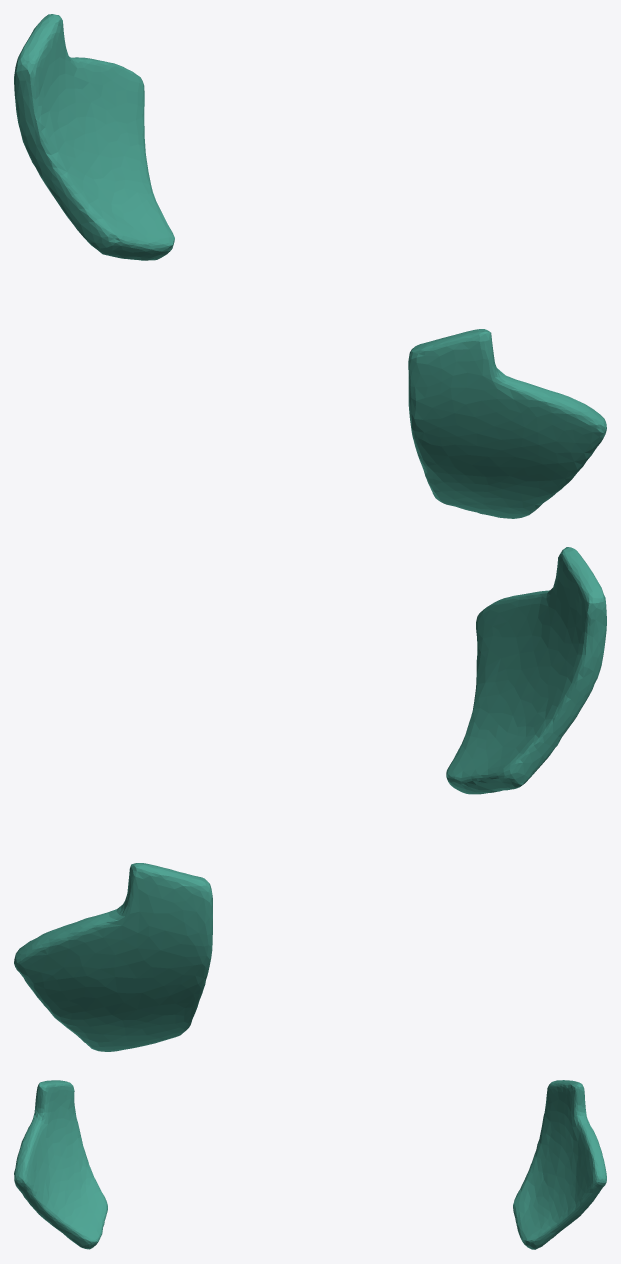
3 views of the same model, one above another, from view 1: azimuth 30°, elevation 25°; view 2: azimuth 150°, elevation 25°; view 3: azimuth 270°, elevation 25° (orthographic). The views are drawn at different scales.
Parts seen in each view (by area): view 1: 657.obj; view 2: 657.obj; view 3: 657.obj.
Boxes of the visible parts, x1,y1,x2,y2 form: 657.obj: (14, 14, 606, 518); 657.obj: (14, 547, 606, 1051); 657.obj: (14, 1080, 606, 1249).
Bounding box in the file's own units: 1685 × 2299 × 8538.
